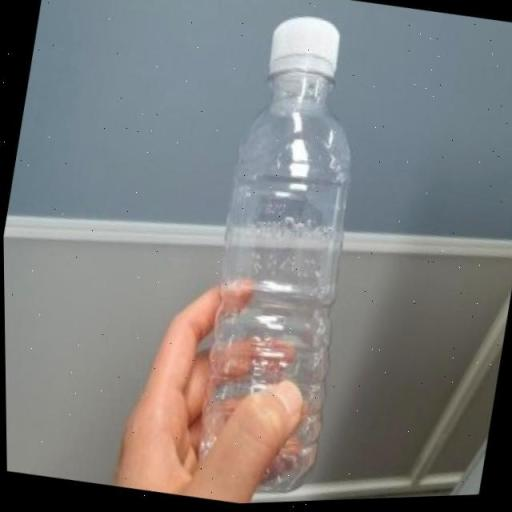plastic: (173, 7, 390, 507)
